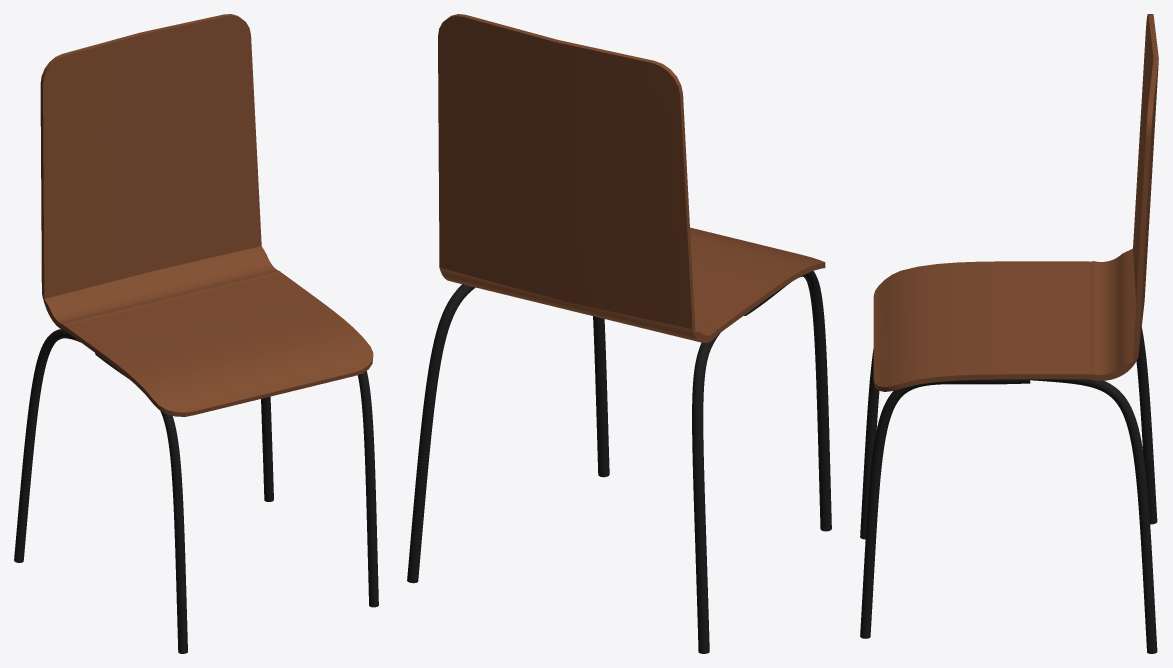
The model's file is new_cadeira.fbx.
3 views of the same model, side by side, from view 1: azimuth 30°, elevation 25°; view 2: azimuth 150°, elevation 25°; view 3: azimuth 270°, elevation 25° (orthographic). The views are drawn at different scales.
Visible parts, largest first — view 1: Cube.235; view 2: Cube.235; view 3: Cube.235.
Part boxes in pixels (left/top/right/bottom): Cube.235: left=14, top=14, right=378, bottom=653; Cube.235: left=407, top=14, right=831, bottom=653; Cube.235: left=860, top=14, right=1158, bottom=653.
Bounding box in the file's own units: 64.72 × 119 × 60.73.
